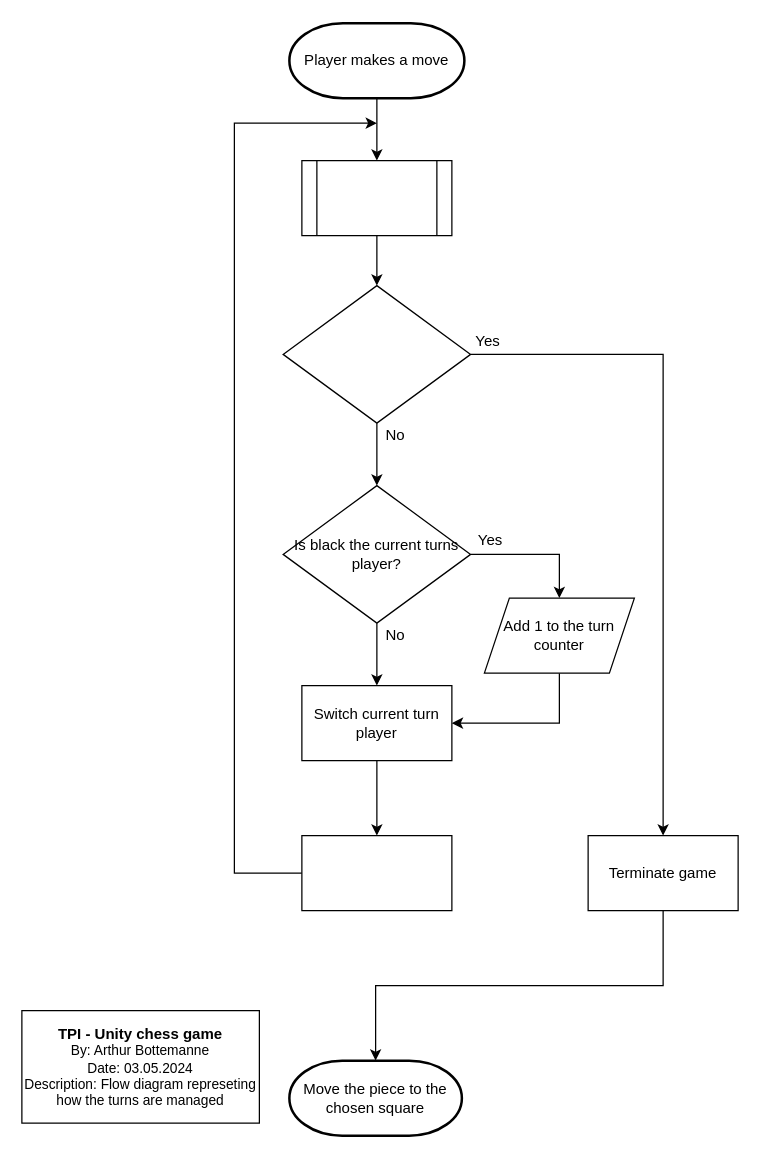
Image size: 760x1158. Some labels were removed from this diagram. Each missing label, with the centre of its shape:
"Check end game conditions" goes at (x=376, y=197).
"Current player makes a move" goes at (x=376, y=872).
"Has the game ended?" goes at (x=376, y=353).
